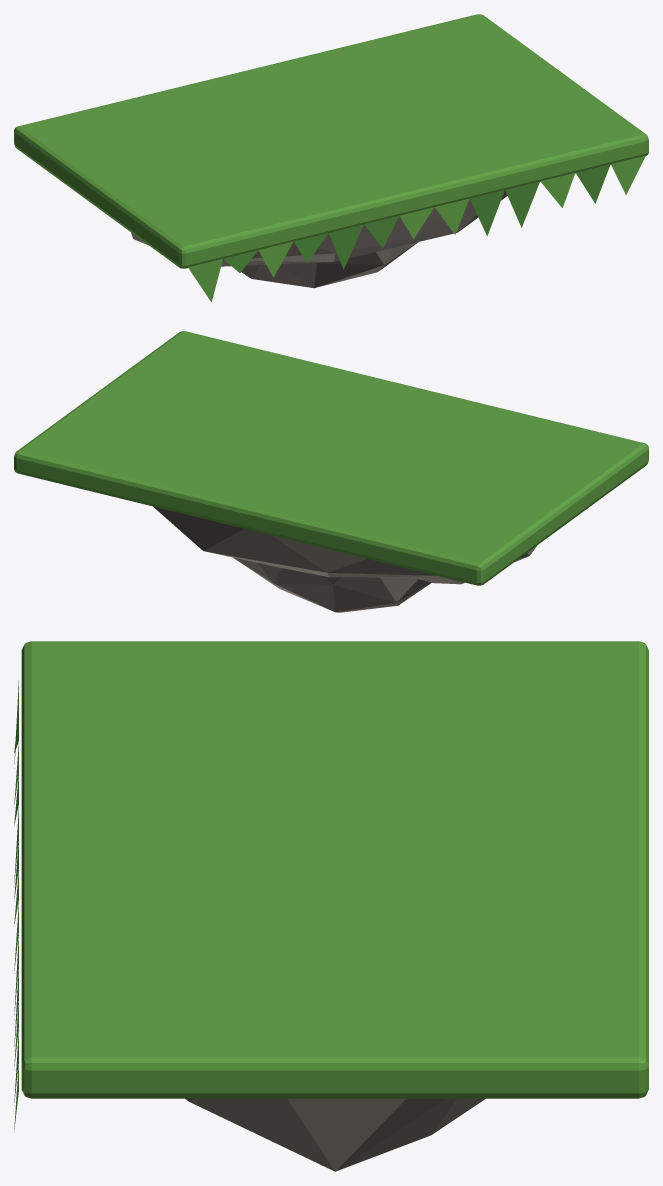
Rendered from ledge_4.glb.
The picture shows the model from 3 angles, top to bottom: view 1: azimuth 30°, elevation 25°; view 2: azimuth 150°, elevation 25°; view 3: azimuth 270°, elevation 25°; orthographic projection. The views are drawn at different scales.
Visible parts, largest first — view 1: ledge_mesh; view 2: ledge_mesh; view 3: ledge_mesh.
Boxes of the visible parts, x1,y1,x2,y2 form: ledge_mesh: (14,14,648,302); ledge_mesh: (14,331,648,612); ledge_mesh: (14,641,648,1171).
Bounding box in the file's own units: 4 × 1.28 × 2.53.
